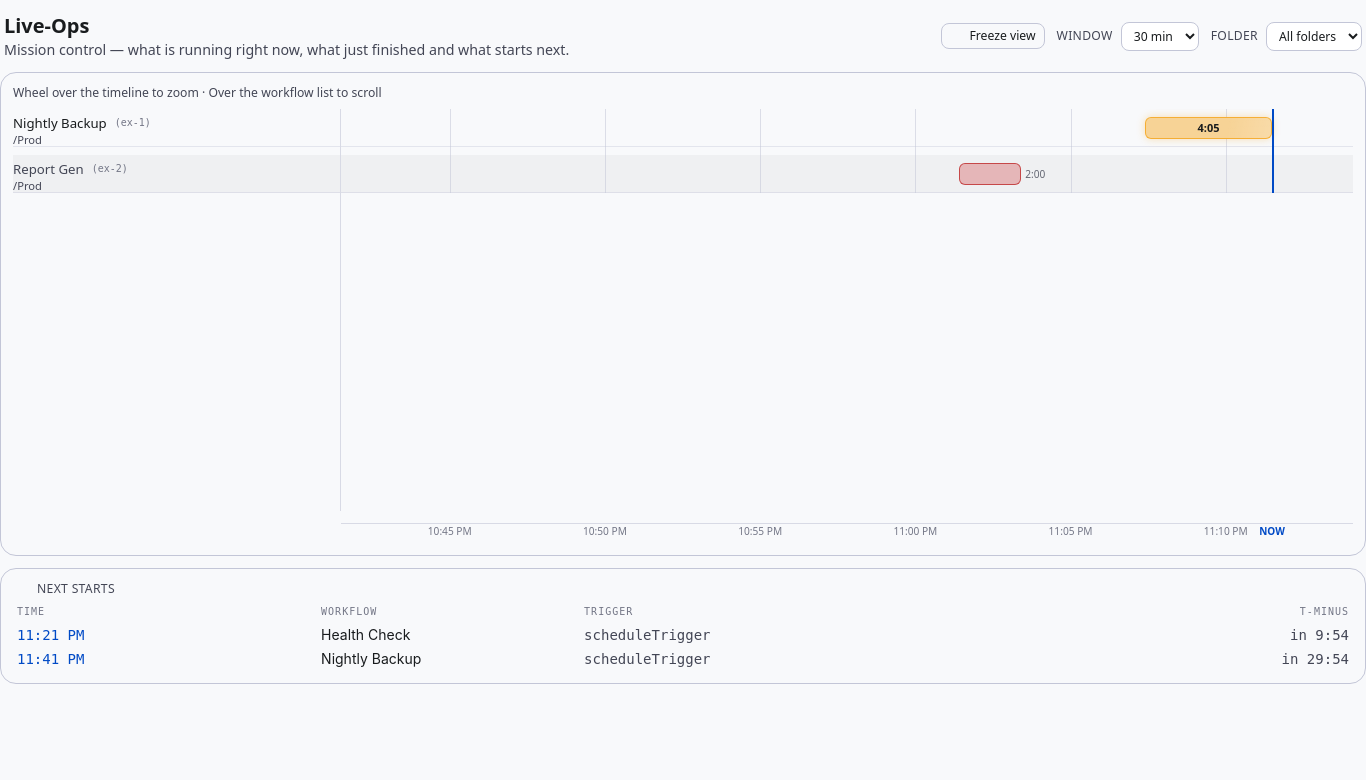
Test: OperationsPage › freeze stops the polling and shows a badge naming the freeze time
Check: the button titled "Nightly Backup · Running" is shown, box [1145,117,1272,139]
Step 1. Click the button "Freeze view" → (993, 36), box [942,23,1045,49]
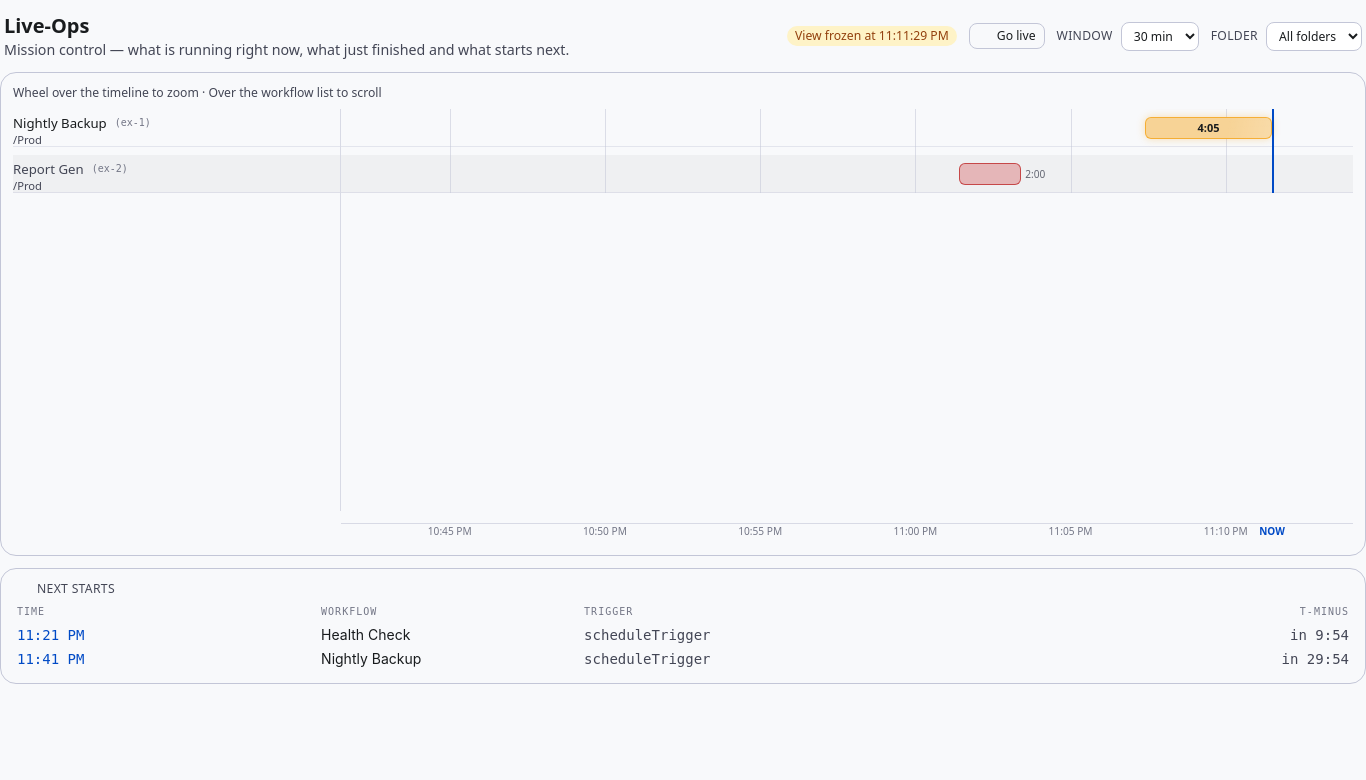
Check: the text "View frozen at 11:11:29 PM" is shown, box [787,26,957,46]
// Unfreezing restores the live label.
Step 2. Click the button "Go live" → (1007, 36), box [969,23,1045,49]
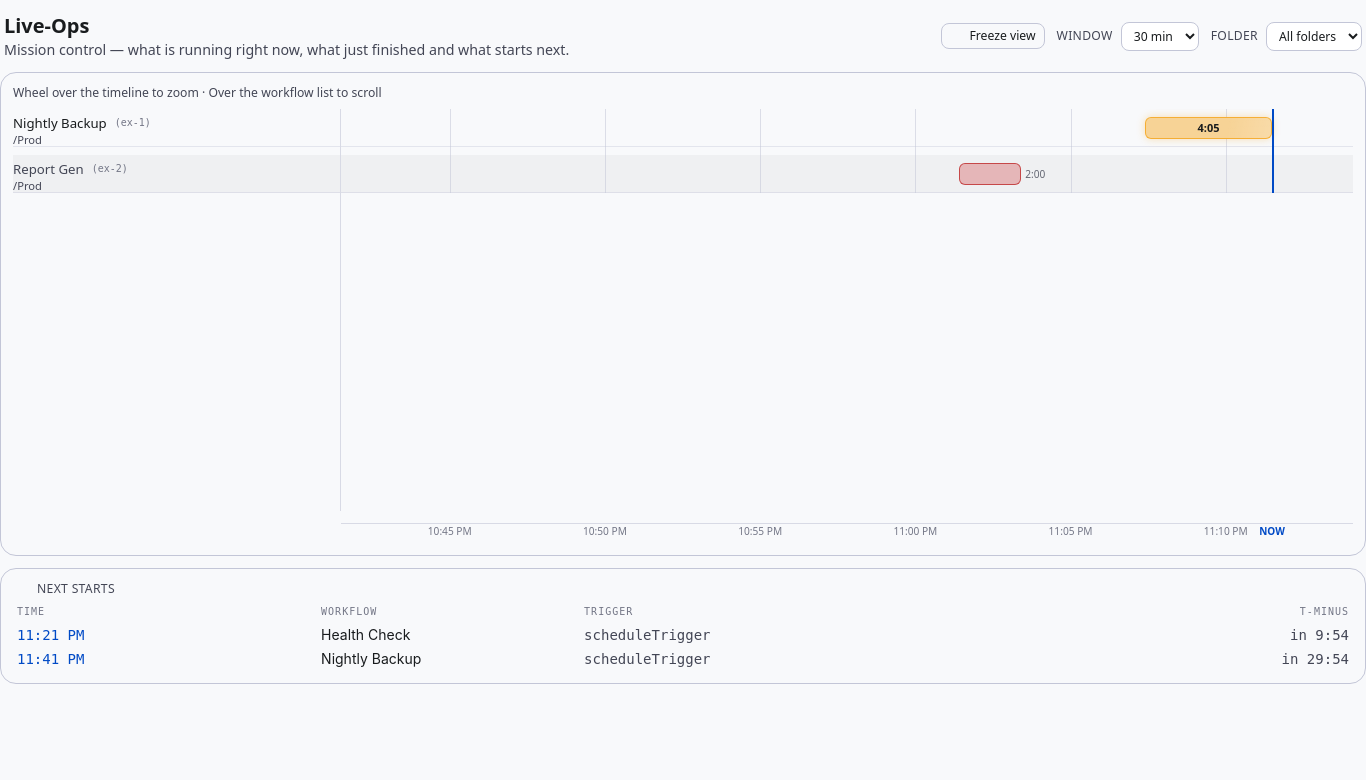
Check: the text with test id "ops-frozen-badge" is gone
